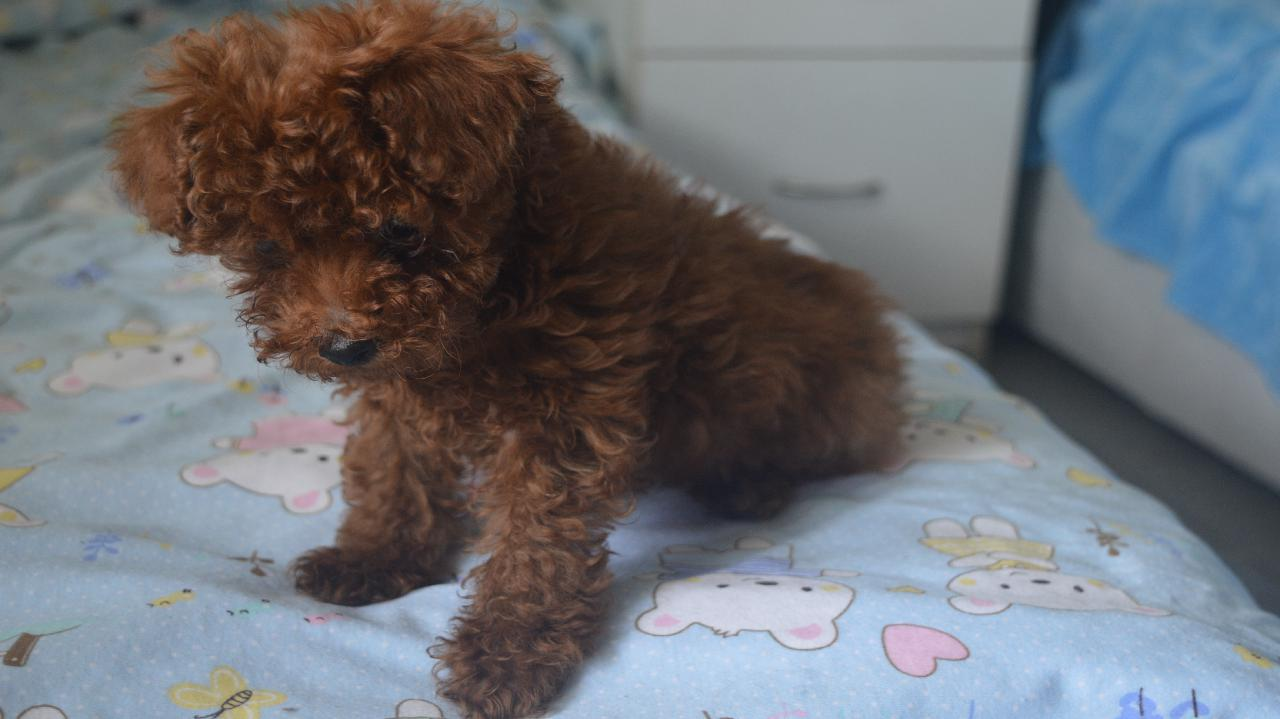coin: (123, 3, 913, 705)
